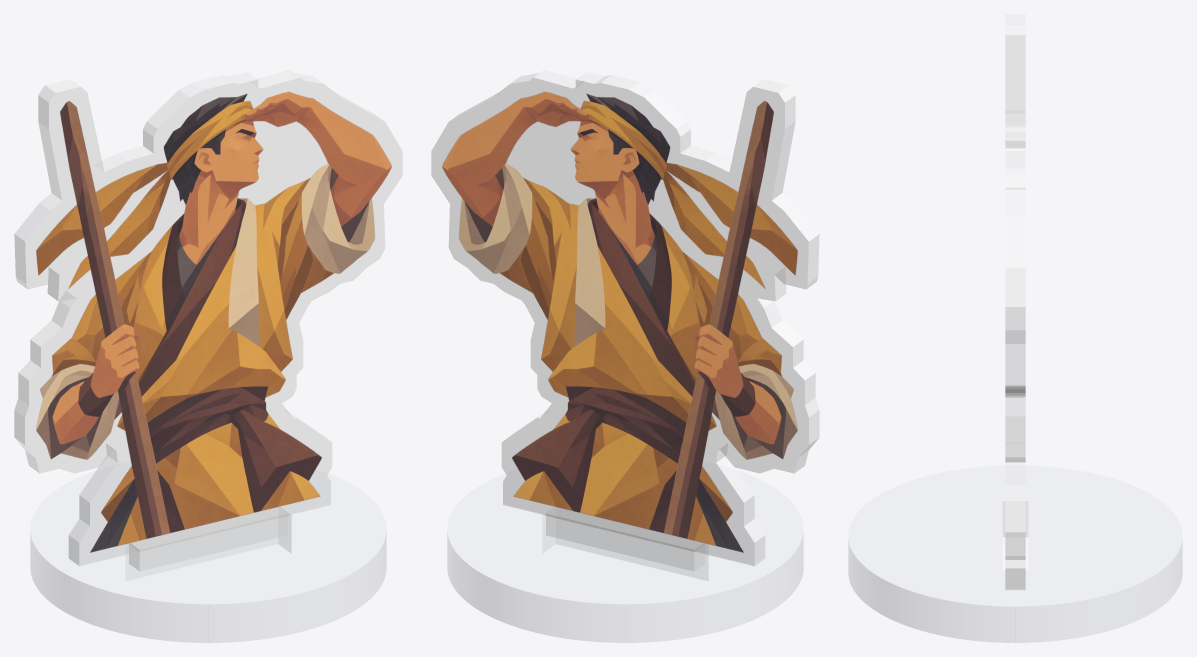
File: tham-quan-B-gPkvaS.glb
3 views of the same model, side by side, from view 1: azimuth 30°, elevation 25°; view 2: azimuth 150°, elevation 25°; view 3: azimuth 270°, elevation 25° (orthographic). The views are drawn at different scales.
Visible parts, largest first — view 1: ArtworkFront, AcrylicSilhouette, RoundBaseWithSlot, InsertTab; view 2: ArtworkBack, AcrylicSilhouette, RoundBaseWithSlot, InsertTab; view 3: RoundBaseWithSlot, AcrylicSilhouette, InsertTab.
Part boxes in pixels (<box>): ArtworkFront: <box>36,91,391,552</box>; AcrylicSilhouette: <box>14,70,402,565</box>; RoundBaseWithSlot: <box>30,462,386,642</box>; InsertTab: <box>129,507,287,570</box>; ArtworkBack: <box>442,91,797,552</box>; AcrylicSilhouette: <box>431,70,819,565</box>; RoundBaseWithSlot: <box>447,462,803,642</box>; InsertTab: <box>546,507,704,570</box>; RoundBaseWithSlot: <box>848,465,1182,642</box>; AcrylicSilhouette: <box>1005,14,1025,589</box>; InsertTab: <box>1005,501,1025,588</box>.
Size of the model in its own units: 30.59 by 40.06 by 25.
5 materials, 2 textured.
